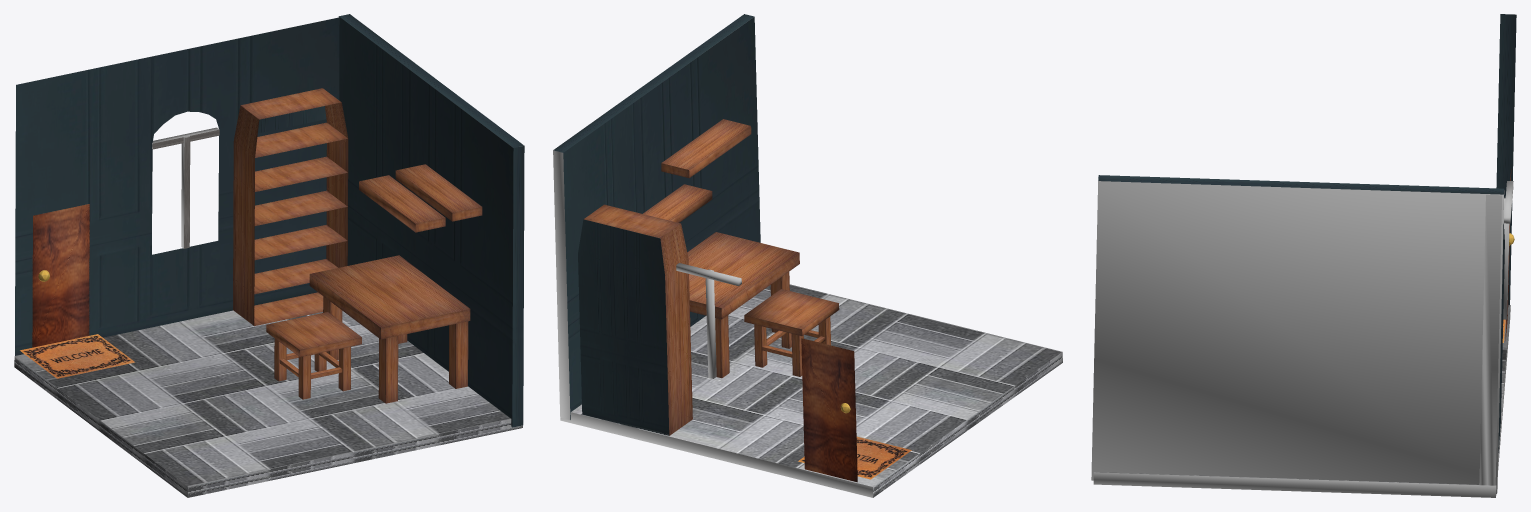
3 renders of one model, left to right at view 1: azimuth 30°, elevation 25°; view 2: azimuth 150°, elevation 25°; view 3: azimuth 270°, elevation 25°, orthographic. The views are drawn at different scales.
Visible parts, largest first — view 1: node_2603207930_45_mesh0, node_2603207930_43_mesh0, node_2603207930_44_mesh0, node_2603207930_42_mesh0, node_2603207930_47_mesh0, node_2603207930_46_mesh0, node_2603207930_54_mesh0, node_2603207930_64_mesh0, node_2603207930_56_mesh0, node_2603207930_55_mesh0, node_2603207930_50_mesh0, node_2603207930_51_mesh0 (+3 smaller); view 2: node_2603207930_43_mesh0, node_2603207930_44_mesh0, node_2603207930_42_mesh0, node_2603207930_46_mesh0, node_2603207930_47_mesh0, node_2603207930_64_mesh0, node_2603207930_56_mesh0, node_2603207930_55_mesh0, node_2603207930_54_mesh0, node_2603207930_52_mesh0, node_2603207930_48_mesh0, node_2603207930_53_mesh0; view 3: node_2603207930_44_mesh0, node_2603207930_45_mesh0, node_2603207930_43_mesh0, node_2603207930_42_mesh0, node_2603207930_52_mesh0.
Part boxes in pixels (x1,y1,x2,y2): node_2603207930_45_mesh0: (15, 17, 339, 355); node_2603207930_43_mesh0: (14, 310, 522, 497); node_2603207930_44_mesh0: (338, 14, 524, 427); node_2603207930_42_mesh0: (233, 88, 348, 325); node_2603207930_47_mesh0: (309, 255, 470, 339); node_2603207930_46_mesh0: (32, 204, 89, 347); node_2603207930_54_mesh0: (20, 334, 135, 378); node_2603207930_64_mesh0: (266, 312, 361, 357); node_2603207930_56_mesh0: (395, 164, 482, 221); node_2603207930_55_mesh0: (359, 175, 445, 232); node_2603207930_50_mesh0: (378, 336, 398, 403); node_2603207930_51_mesh0: (449, 321, 468, 388); node_2603207930_43_mesh0: (560, 284, 1062, 497); node_2603207930_44_mesh0: (553, 14, 760, 420); node_2603207930_42_mesh0: (578, 204, 692, 435); node_2603207930_46_mesh0: (801, 338, 857, 482); node_2603207930_47_mesh0: (687, 232, 799, 319); node_2603207930_64_mesh0: (744, 289, 839, 335); node_2603207930_56_mesh0: (661, 119, 751, 178); node_2603207930_55_mesh0: (643, 184, 712, 222); node_2603207930_54_mesh0: (798, 436, 911, 479); node_2603207930_52_mesh0: (705, 269, 716, 378); node_2603207930_48_mesh0: (715, 315, 729, 378); node_2603207930_53_mesh0: (676, 263, 741, 285); node_2603207930_44_mesh0: (1091, 175, 1504, 493); node_2603207930_45_mesh0: (1479, 14, 1516, 485); node_2603207930_43_mesh0: (1093, 305, 1510, 497); node_2603207930_42_mesh0: (1498, 224, 1504, 452); node_2603207930_52_mesh0: (1503, 197, 1509, 319).
Bounding box in the file's own units: 7.08 × 5.65 × 6.95.
9 materials, 7 textured.
